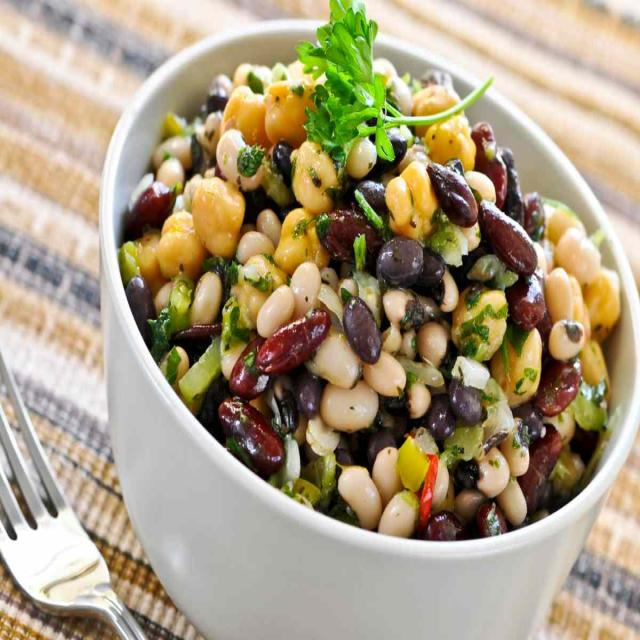frijoles: (111, 16, 623, 553)
